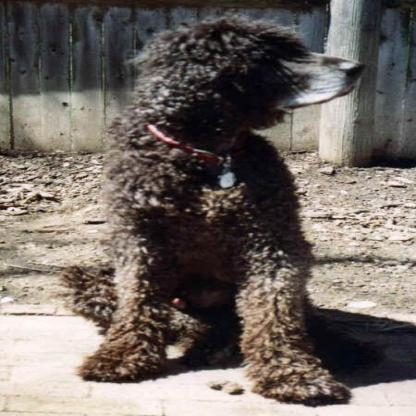Irish_water_spaniel: (57, 10, 370, 409)
